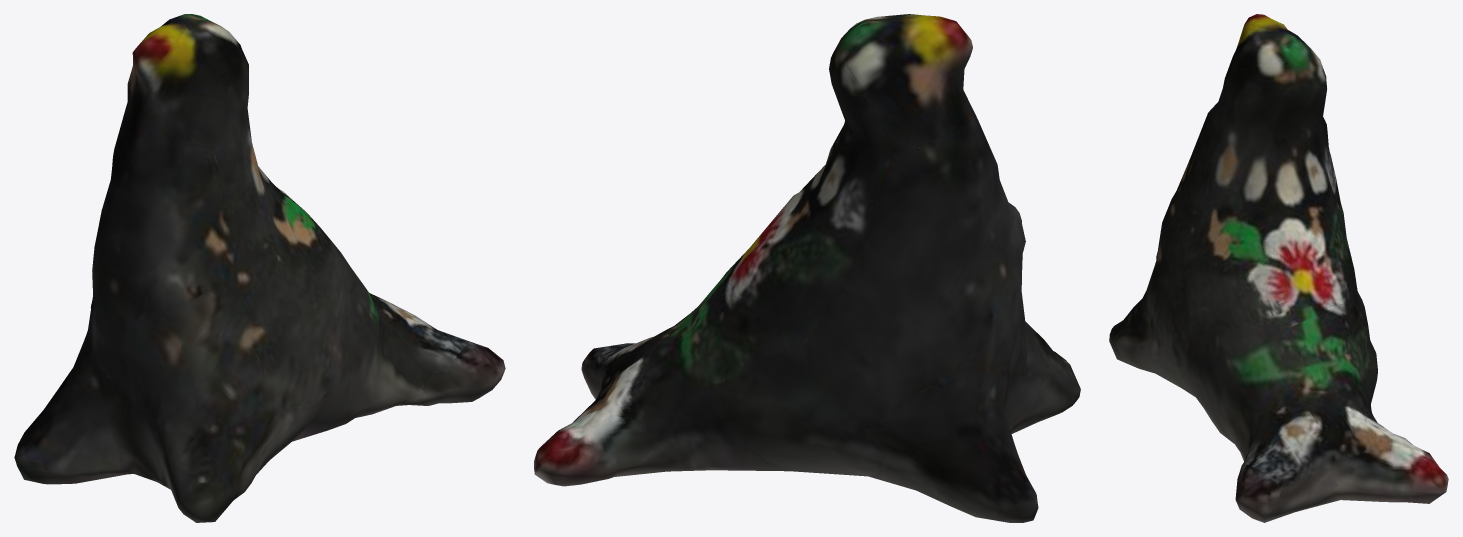
Rendered from hall.glb.
3 renders of one model, left to right at view 1: azimuth 30°, elevation 25°; view 2: azimuth 150°, elevation 25°; view 3: azimuth 270°, elevation 25°, orthographic. The views are drawn at different scales.
Bounding box in the file's own units: 0.5637 × 0.5241 × 0.4242.
Materials: 1 (1 with a texture image).
